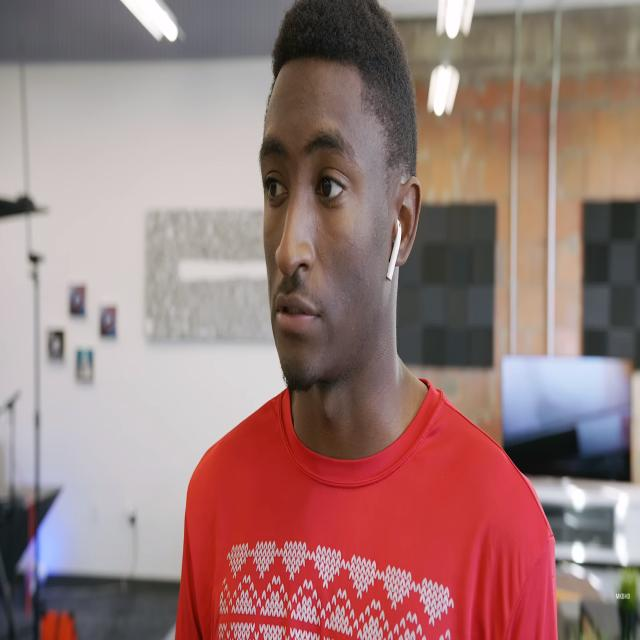airpods: (386, 218, 402, 282)
